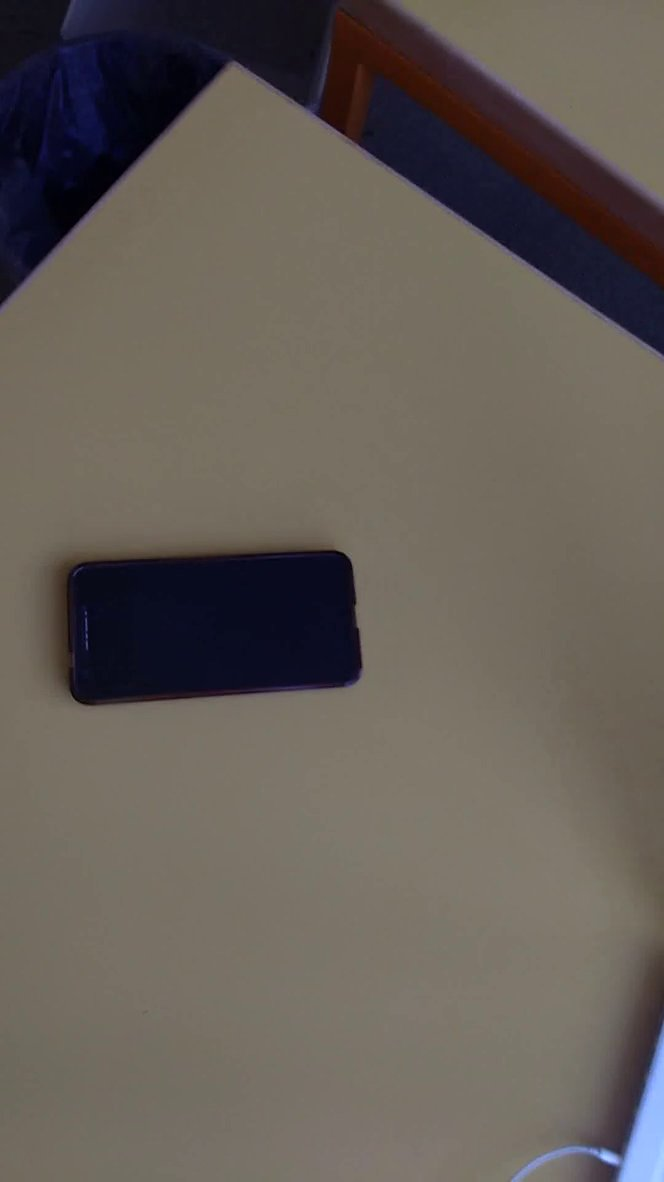phone: (51, 536, 390, 716)
